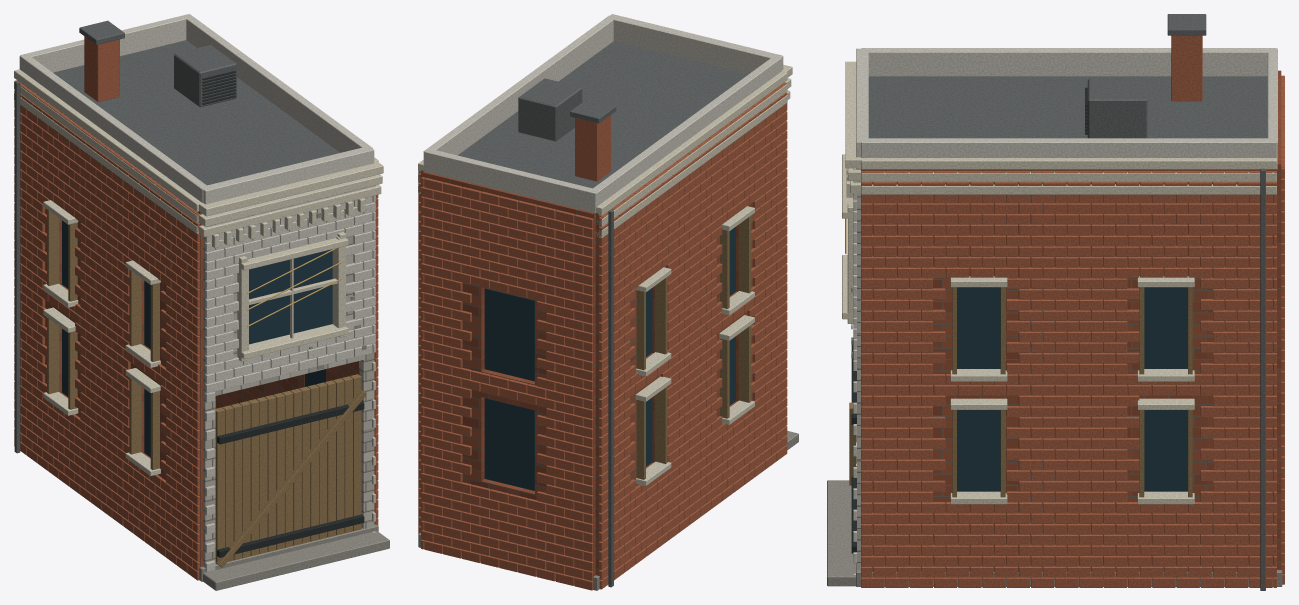
The model's file is WHSE12_lod0.glb.
The picture shows the model from 3 angles, left to right: view 1: azimuth 30°, elevation 25°; view 2: azimuth 150°, elevation 25°; view 3: azimuth 270°, elevation 25°; orthographic projection. The views are drawn at different scales.
Parts seen in each view (by area): view 1: WHSE12_LOD0; view 2: WHSE12_LOD0; view 3: WHSE12_LOD0.
Boxes of the visible parts, x1,y1,x2,y2 form: WHSE12_LOD0: (14, 14, 389, 590); WHSE12_LOD0: (418, 14, 798, 590); WHSE12_LOD0: (827, 14, 1284, 590).
Bounding box in the file's own units: 3.71 × 7.85 × 6.6.
16 materials, 13 textured.
